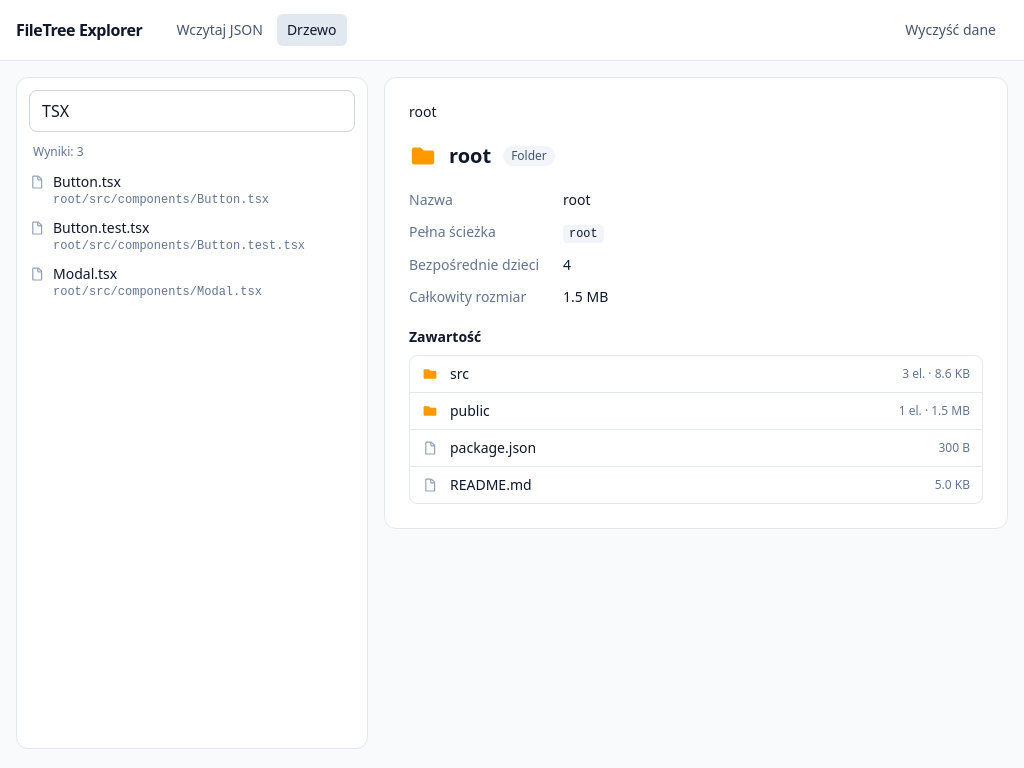
Test: search › restores results after a reload and keeps the query when opening a result
The image size is (1024, 768).
Expected: the search field holds "TSX", x1=29 y1=90 x2=355 y2=132
Expected: the message reads "Wyniki: 3", x1=33 y1=143 x2=84 y2=160
What coordinates should you click on to do the following:
click the link "Modal.tsx root/src/components/Modal.tsx"
I would click on:
 (85, 274)
Its box is x1=29 y1=264 x2=262 y2=299.
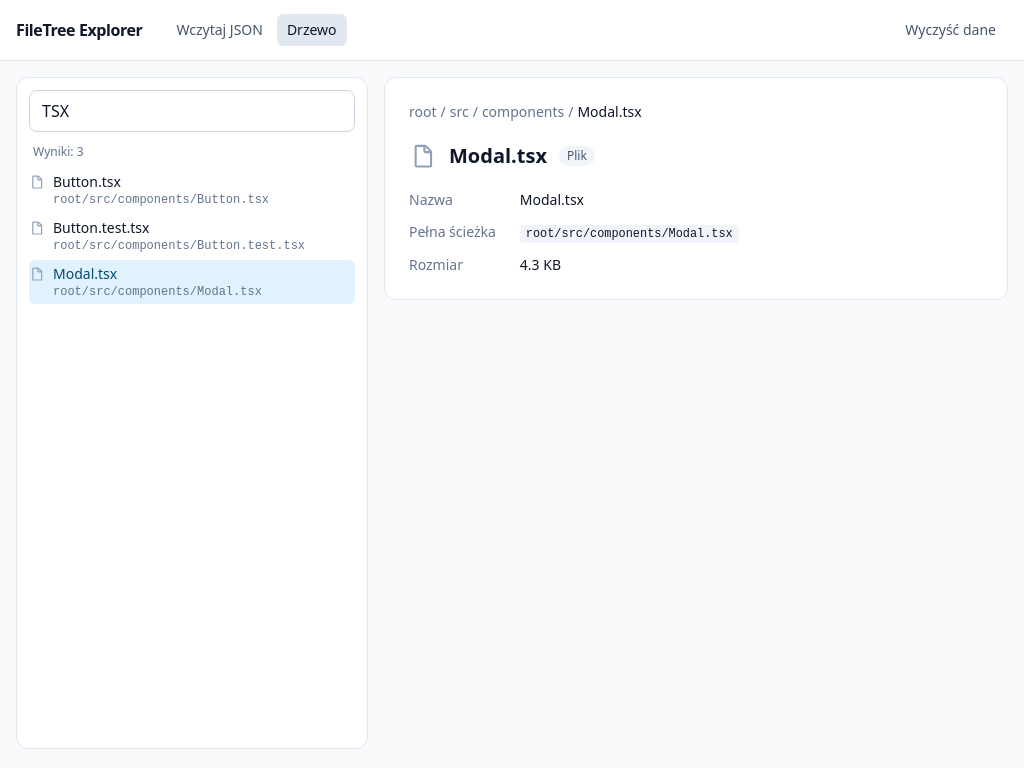
Result: the heading "Modal.tsx" is shown at x1=449 y1=142 x2=547 y2=170
